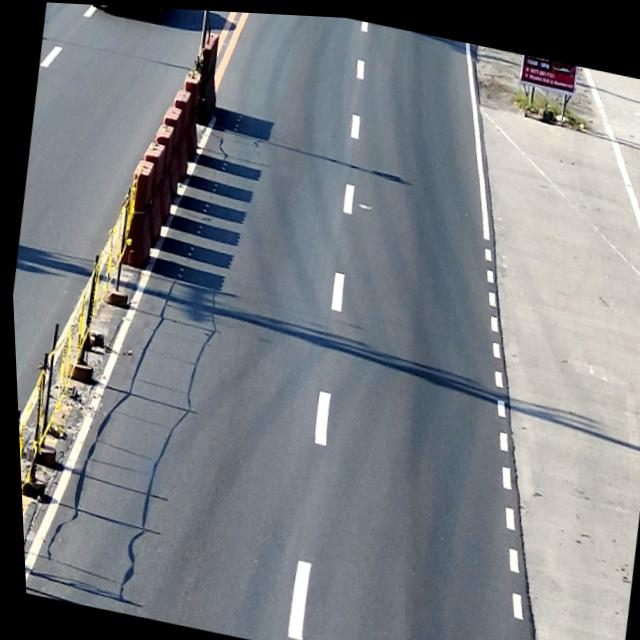Car: (90, 4, 172, 19)
